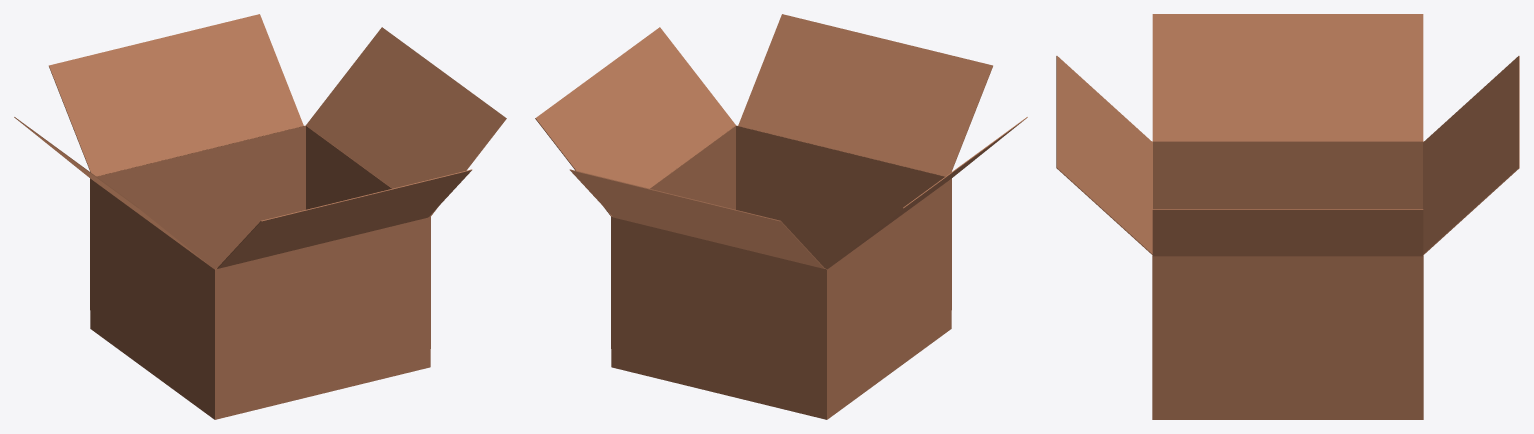
3 views of the same model, side by side, from view 1: azimuth 30°, elevation 25°; view 2: azimuth 150°, elevation 25°; view 3: azimuth 270°, elevation 25° (orthographic). The views are drawn at different scales.
Visible parts, largest first — view 1: Empty_box; view 2: Empty_box; view 3: Empty_box.
Boxes of the visible parts, x1,y1,x2,y2 form: Empty_box: (14, 14, 506, 419); Empty_box: (535, 14, 1027, 419); Empty_box: (1056, 14, 1519, 419).
Size of the model in its own units: 3.01 by 1.8 by 3.01.
1 material, 1 textured.
